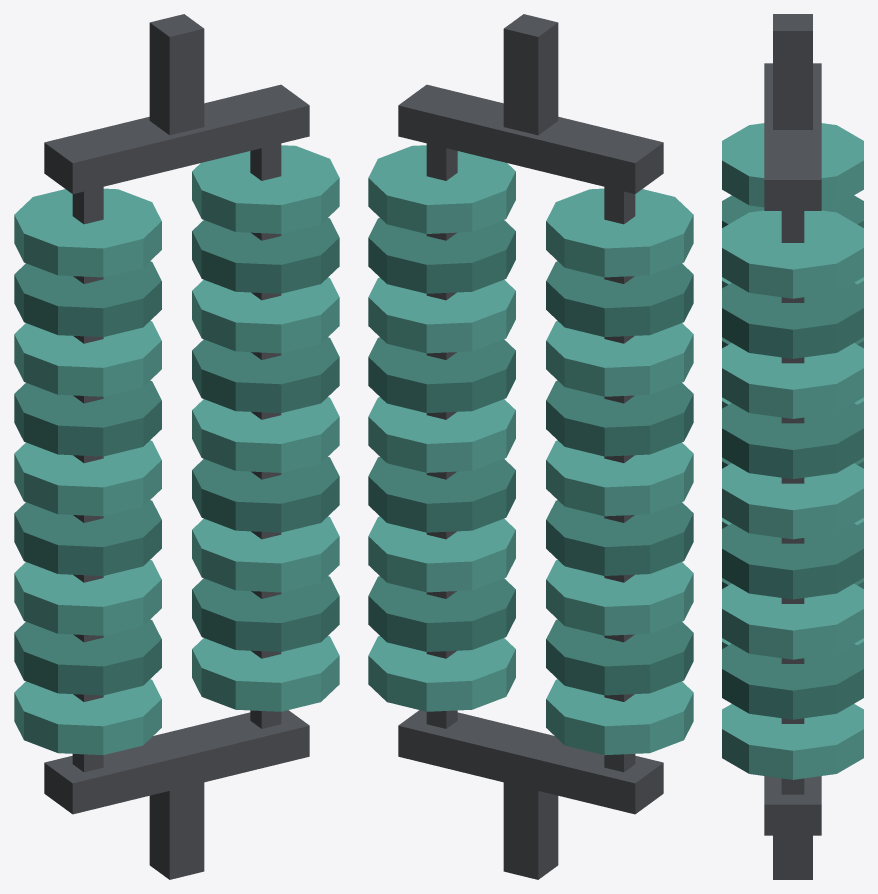
File: pyl-136.obj
3 renders of one model, left to right at view 1: azimuth 30°, elevation 25°; view 2: azimuth 150°, elevation 25°; view 3: azimuth 270°, elevation 25°, orthographic.
Size of the model in its own units: 0.31 by 0.8155 by 0.1236.
1 material, 1 textured.
